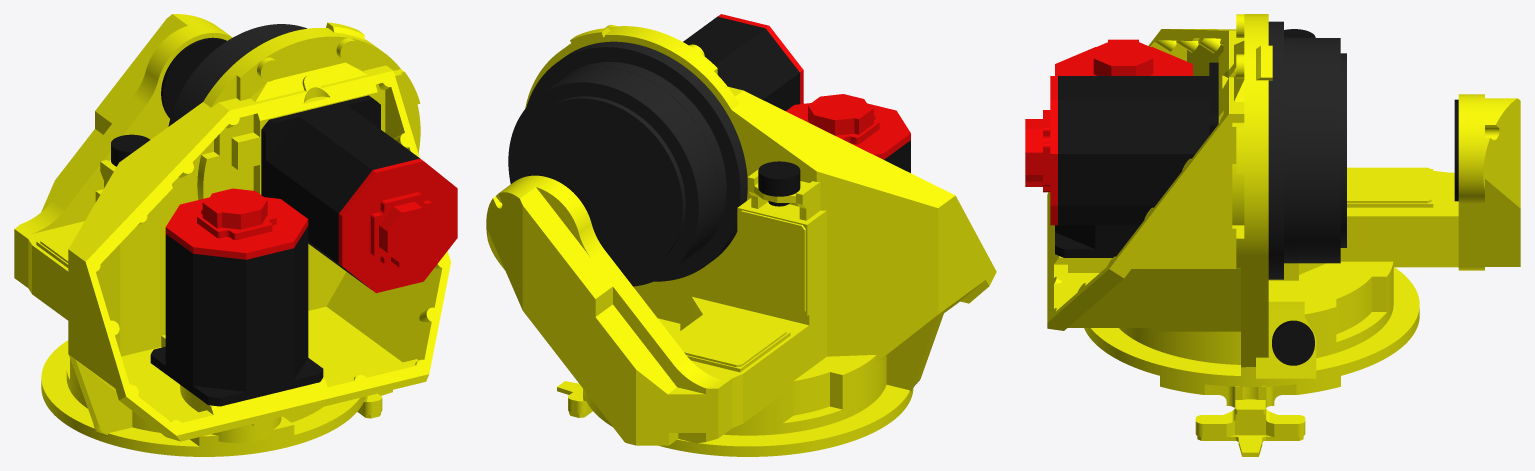
3 renders of one model, left to right at view 1: azimuth 30°, elevation 25°; view 2: azimuth 150°, elevation 25°; view 3: azimuth 270°, elevation 25°, orthographic. The views are drawn at different scales.
Visible parts, largest first — view 1: 45M_S301; view 2: 45M_S301; view 3: 45M_S301.
Boxes of the visible parts, bbox=[...] form: 45M_S301: bbox=[14, 14, 457, 456]; 45M_S301: bbox=[486, 14, 996, 456]; 45M_S301: bbox=[1025, 14, 1520, 456].
Bounding box in the file's own units: 0.566 × 0.6235 × 0.5375.
